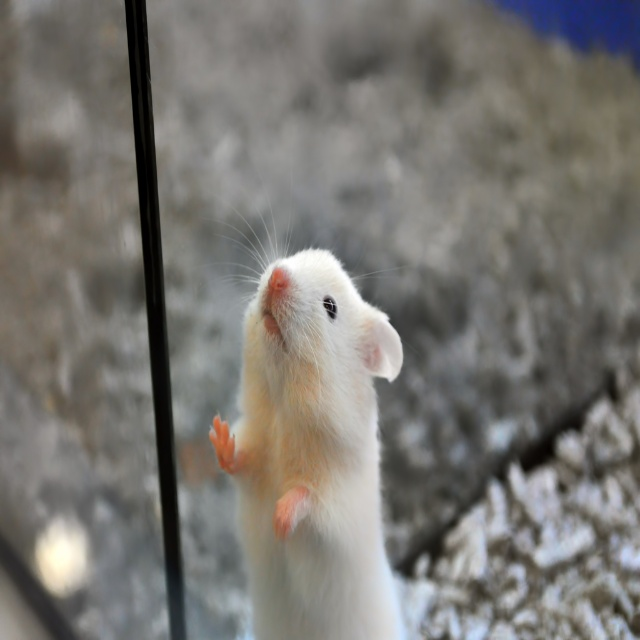Hamster: (192, 168, 416, 640)
